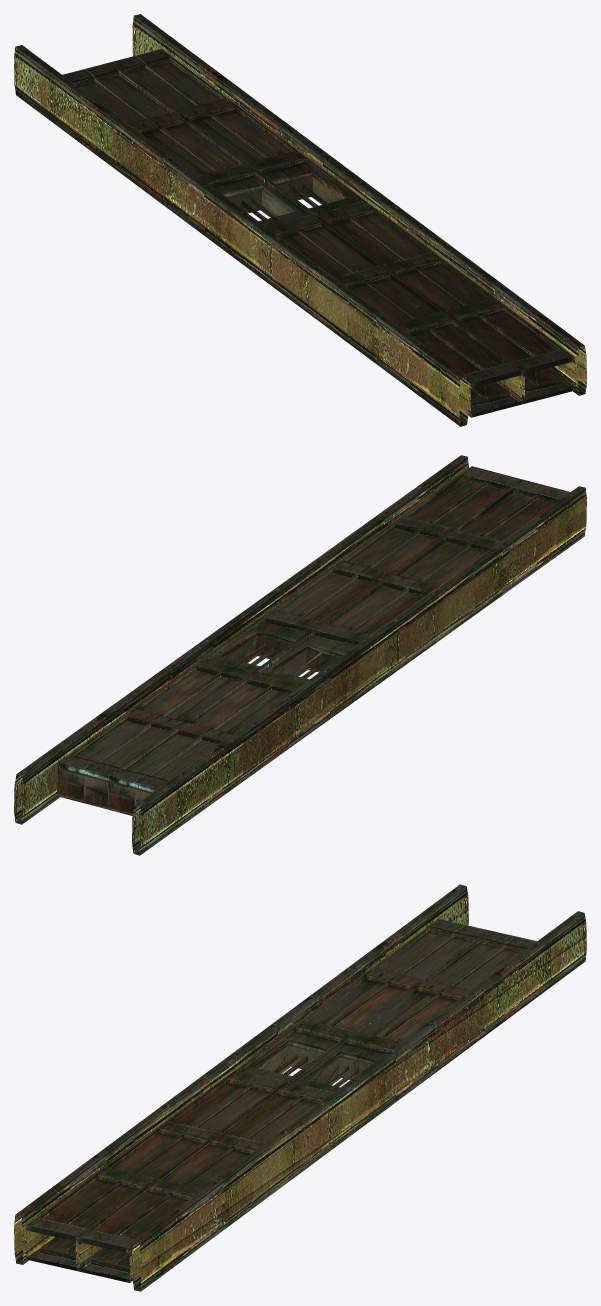
File: com-airlock-outer-lod0.glb
3 renders of one model, top to bottom at view 1: azimuth 30°, elevation 25°; view 2: azimuth 150°, elevation 25°; view 3: azimuth 330°, elevation 25°, orthographic.
Parts seen in each view (by area): view 1: mesh0; view 2: mesh0; view 3: mesh0.
Part boxes in pixels (left/top/right/bottom): mesh0: left=14, top=14, right=586, bottom=426; mesh0: left=14, top=455, right=586, bottom=855; mesh0: left=14, top=884, right=586, bottom=1291.
Bounding box in the file's own units: 13.02 × 5.5 × 78.5.
2 materials, 2 textured.
